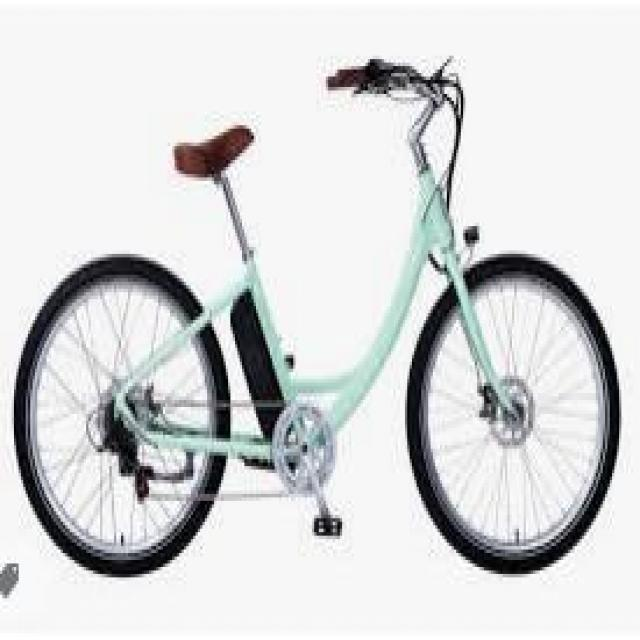bicycle: (27, 53, 630, 596)
